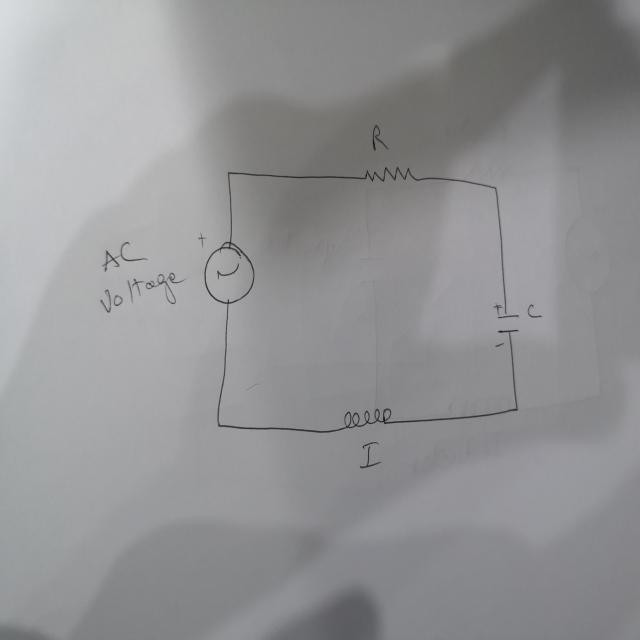capacitor: (492, 299, 520, 349)
inductor: (342, 405, 393, 431)
junction: (488, 180, 501, 196), (511, 402, 521, 415), (224, 166, 234, 179), (213, 418, 223, 430)
resistor: (362, 164, 418, 184)
source: (196, 230, 256, 307)
text: (98, 269, 188, 316), (100, 238, 152, 274), (360, 440, 384, 469), (370, 122, 390, 154), (527, 302, 542, 320)
